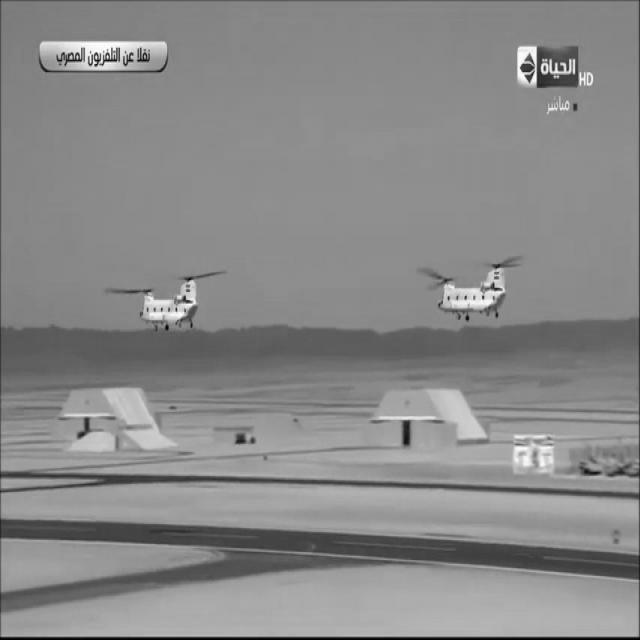helikopter: (414, 249, 528, 348), (118, 250, 228, 338)
